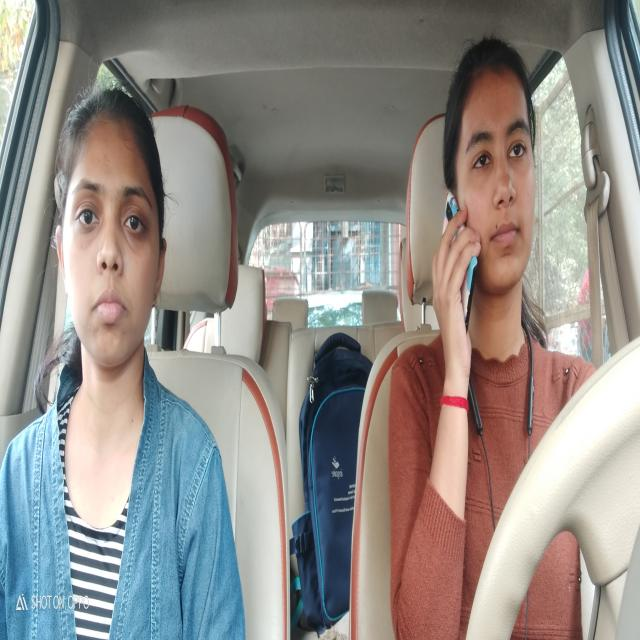mobile: (434, 192, 478, 334)
person: (55, 81, 169, 418), (440, 27, 542, 360)
